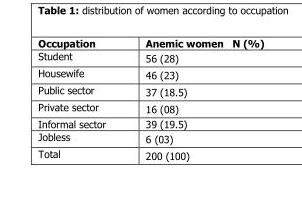table: (37, 36, 263, 161)
table column: (125, 36, 263, 161), (37, 36, 125, 161)
table column header: (37, 36, 263, 48)
table row: (37, 64, 263, 81), (37, 81, 263, 98), (37, 98, 263, 115), (37, 48, 263, 64), (37, 129, 263, 145), (37, 145, 263, 161), (37, 115, 263, 129), (37, 36, 263, 48)
